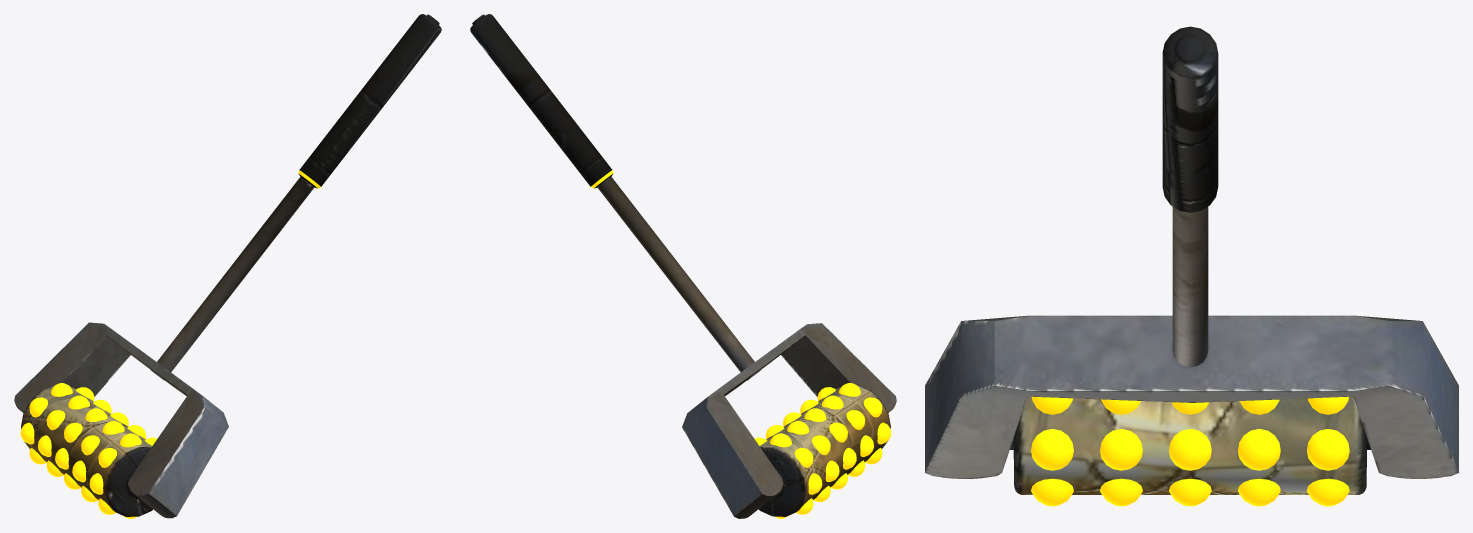
Rendered from floor.01.machine3.gltf.
The picture shows the model from 3 angles, left to right: view 1: azimuth 30°, elevation 25°; view 2: azimuth 150°, elevation 25°; view 3: azimuth 270°, elevation 25°; orthographic projection. The views are drawn at different scales.
Parts seen in each view (by area): view 1: floor.01.machine.04; view 2: floor.01.machine.04; view 3: floor.01.machine.04.
Boxes of the visible parts, <box> form: floor.01.machine.04: <box>14,14,441,518</box>; floor.01.machine.04: <box>470,14,896,518</box>; floor.01.machine.04: <box>925,26,1458,506</box>.
Size of what is drawn, in the model's own units: 9.51 by 9.43 by 5.74.
2 materials, 1 textured.
